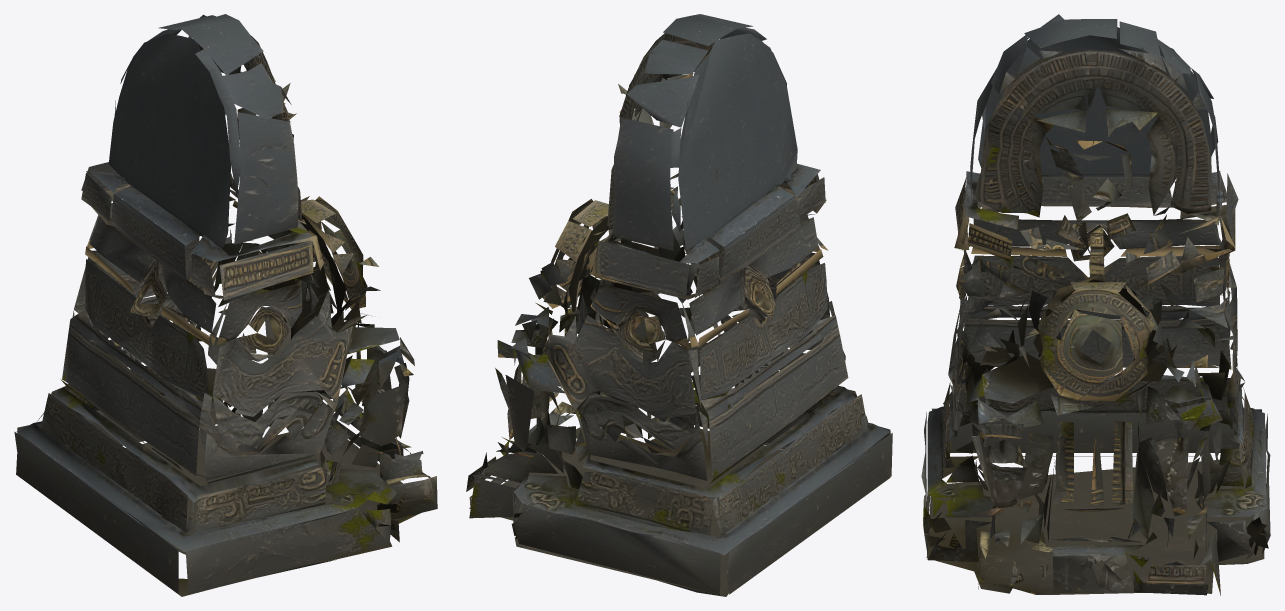
File: ch6_drowned_temple_statue_LOD3.glb
3 views of the same model, side by side, from view 1: azimuth 30°, elevation 25°; view 2: azimuth 150°, elevation 25°; view 3: azimuth 270°, elevation 25° (orthographic).
Visible parts, largest first — view 1: tripo_node_ed97cdbb-6704-44aa-9db0-06d1c5b0128f; view 2: tripo_node_ed97cdbb-6704-44aa-9db0-06d1c5b0128f; view 3: tripo_node_ed97cdbb-6704-44aa-9db0-06d1c5b0128f.
Part boxes in pixels (<box>): tripo_node_ed97cdbb-6704-44aa-9db0-06d1c5b0128f: <box>14,14,437,596</box>; tripo_node_ed97cdbb-6704-44aa-9db0-06d1c5b0128f: <box>466,14,892,596</box>; tripo_node_ed97cdbb-6704-44aa-9db0-06d1c5b0128f: <box>921,14,1270,595</box>.
Bounding box in the file's own units: 0.645 × 1.02 × 0.6521.
Materials: 1 (1 with a texture image).
